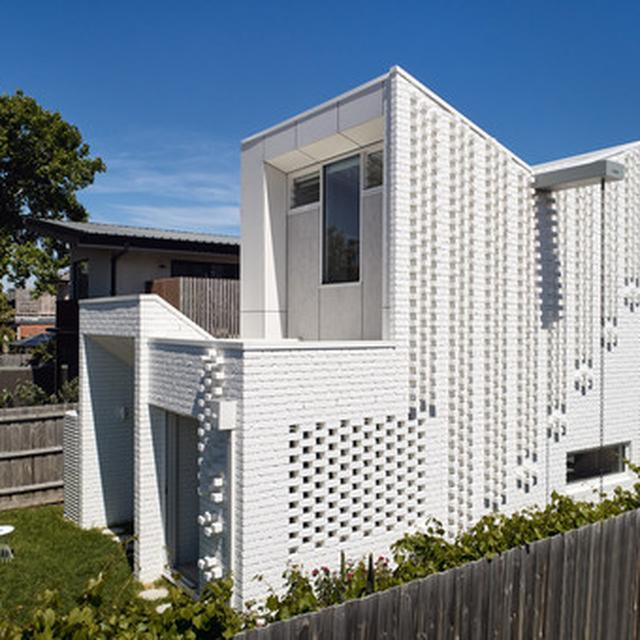building: (79, 66, 640, 552), (35, 205, 239, 332)
